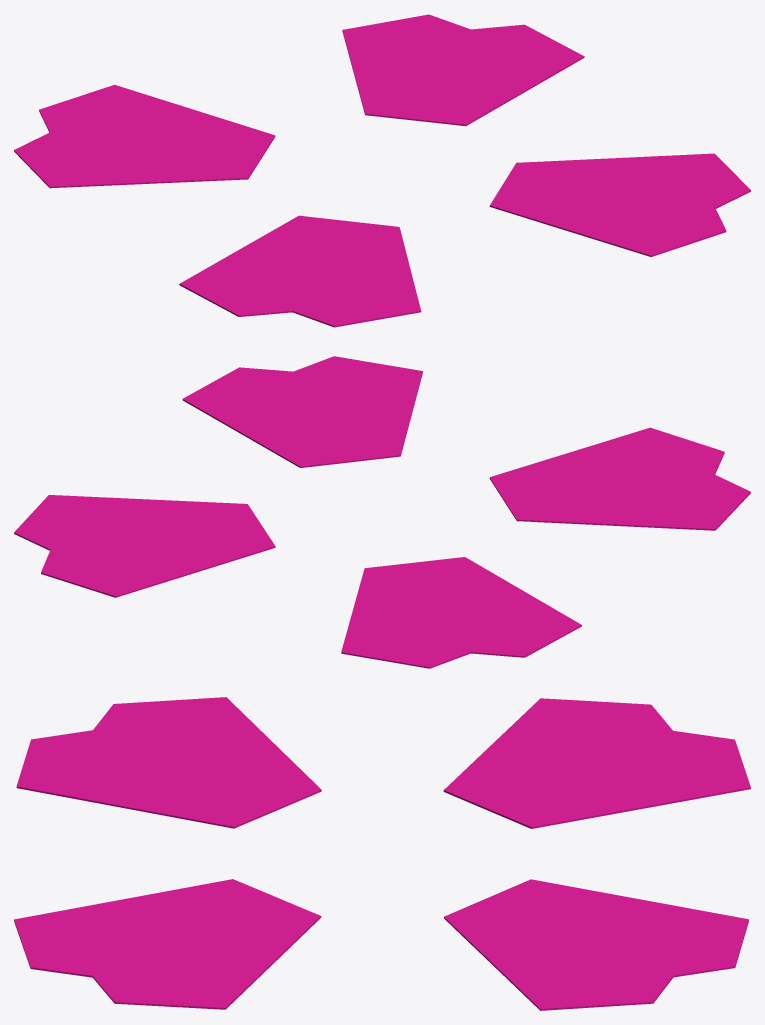
The model's file is zonaAire.fbx.
3 views of the same model, one above another, from view 1: azimuth 30°, elevation 25°; view 2: azimuth 150°, elevation 25°; view 3: azimuth 270°, elevation 25° (orthographic). The views are drawn at different scales.
Visible parts, largest first — view 1: Curve.020, Curve.001, Curve.027, Curve.013; view 2: Curve.027, Curve.013, Curve.020, Curve.001; view 3: Curve.020, Curve.027, Curve.001, Curve.013.
Boxes of the visible parts, left/top/right/bottom form: Curve.020: left=489, top=153, right=750, bottom=256; Curve.001: left=14, top=84, right=275, bottom=188; Curve.027: left=179, top=215, right=421, bottom=327; Curve.013: left=342, top=14, right=584, bottom=126; Curve.027: left=489, top=427, right=750, bottom=530; Curve.013: left=14, top=495, right=275, bottom=597; Curve.020: left=182, top=356, right=422, bottom=467; Curve.001: left=341, top=557, right=581, bottom=668; Curve.020: left=14, top=879, right=321, bottom=1009; Curve.027: left=16, top=697, right=321, bottom=828; Curve.001: left=443, top=698, right=750, bottom=828; Curve.013: left=444, top=879, right=748, bottom=1010.
Size of the model in its own units: 10404 by 27.77 by 10386.
